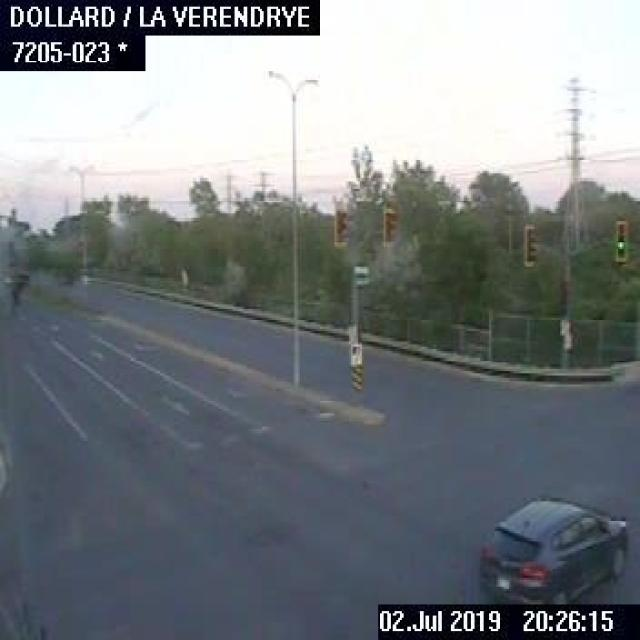vehicle: (476, 493, 631, 600)
